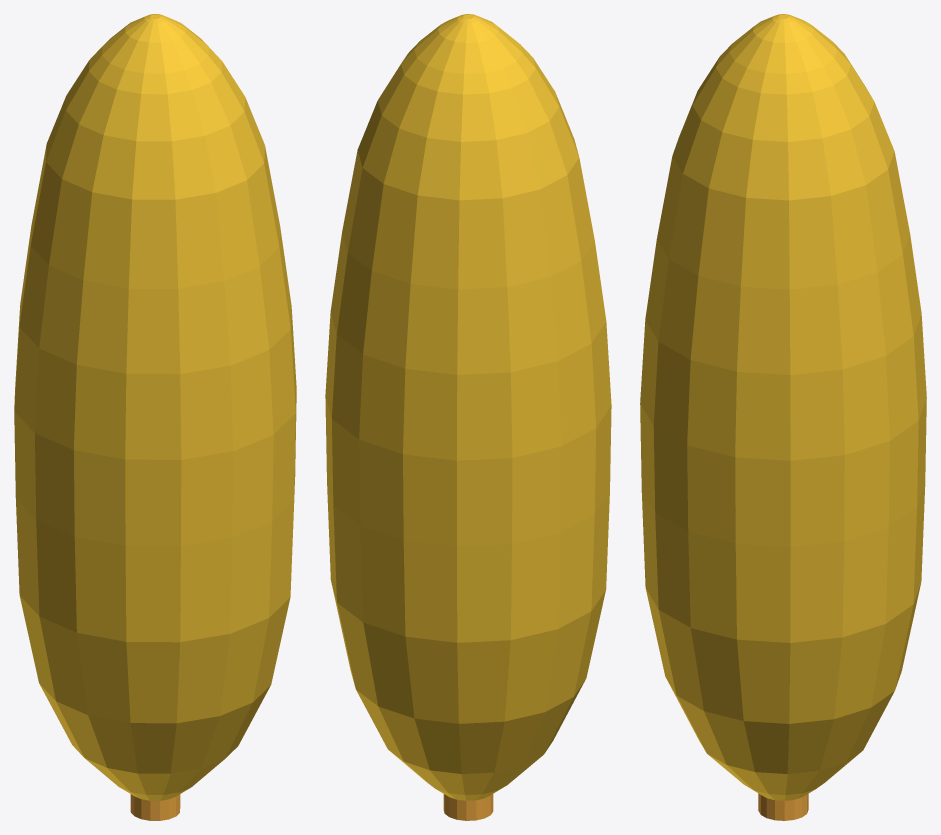
File: korn_single.glb
3 views of the same model, side by side, from view 1: azimuth 30°, elevation 25°; view 2: azimuth 150°, elevation 25°; view 3: azimuth 270°, elevation 25° (orthographic).
Visible parts, largest first — view 1: korn_single; view 2: korn_single; view 3: korn_single.
Part boxes in pixels (bbox=[...]): korn_single: bbox=[14, 14, 296, 820]; korn_single: bbox=[325, 14, 611, 820]; korn_single: bbox=[640, 14, 926, 820].
Size of the model in its own units: 0.8241 by 2.52 by 0.8241.
Materials: 1 (1 with a texture image).
